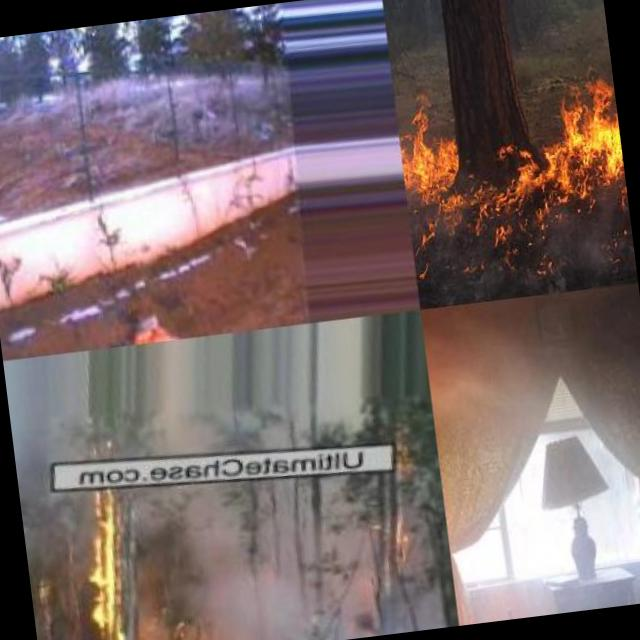fire: (467, 129, 588, 270), (392, 70, 472, 226), (551, 70, 627, 206), (78, 492, 143, 640), (125, 299, 179, 343), (143, 630, 198, 640)
smoke: (178, 465, 459, 640), (499, 0, 611, 79), (410, 216, 486, 310), (482, 255, 590, 301), (584, 203, 638, 288)
